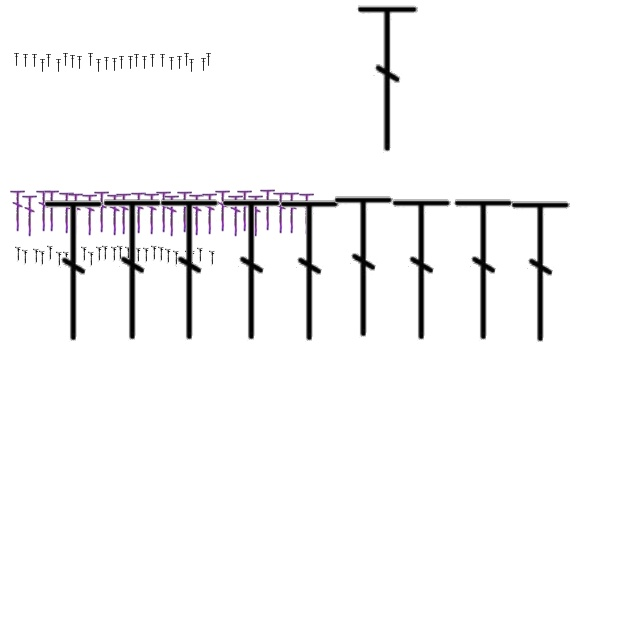double treble: (355, 0, 421, 156), (101, 194, 165, 346), (158, 194, 222, 346), (220, 194, 284, 346), (390, 194, 454, 346), (452, 194, 516, 346), (509, 196, 573, 348), (42, 196, 106, 346), (278, 196, 342, 346), (332, 192, 396, 342), (10, 188, 26, 232), (22, 193, 38, 237), (36, 188, 52, 232), (44, 188, 60, 232), (68, 191, 84, 235), (82, 192, 98, 236), (94, 189, 110, 233), (116, 191, 132, 235), (144, 191, 160, 235), (156, 189, 172, 233), (164, 193, 180, 237), (202, 191, 218, 235), (228, 193, 244, 237), (248, 193, 264, 237), (260, 187, 276, 231), (284, 190, 300, 234), (60, 190, 74, 234), (108, 192, 122, 236), (132, 190, 146, 234), (178, 189, 192, 233), (190, 192, 204, 236), (216, 188, 230, 232), (238, 188, 252, 232), (274, 190, 288, 234), (300, 191, 314, 235), (15, 246, 21, 262), (22, 249, 28, 265), (33, 248, 39, 264), (39, 250, 45, 266), (47, 245, 53, 261), (56, 251, 62, 267), (63, 251, 69, 267), (71, 247, 77, 263), (81, 246, 87, 262), (88, 251, 94, 267), (96, 246, 102, 262), (102, 245, 108, 261), (111, 246, 117, 262), (117, 245, 123, 261), (125, 246, 131, 262), (135, 247, 141, 263), (143, 247, 149, 263), (151, 245, 157, 261), (158, 246, 164, 262), (165, 248, 171, 264), (173, 250, 179, 266), (185, 250, 191, 266), (189, 250, 195, 266), (197, 247, 203, 263), (209, 250, 215, 266), (32, 54, 38, 68), (46, 54, 52, 68), (112, 58, 118, 72), (128, 56, 134, 70), (134, 54, 140, 68), (142, 56, 148, 70), (150, 54, 156, 68), (160, 54, 166, 68), (14, 54, 20, 66), (40, 60, 46, 72), (56, 60, 62, 72), (70, 56, 76, 68), (88, 54, 94, 66), (96, 60, 102, 72), (104, 58, 110, 70), (184, 54, 190, 66), (206, 54, 212, 66), (24, 54, 28, 68), (78, 56, 82, 70), (120, 56, 124, 70), (178, 56, 182, 70), (202, 58, 206, 72), (64, 54, 68, 66), (170, 58, 174, 70), (190, 60, 194, 72)
